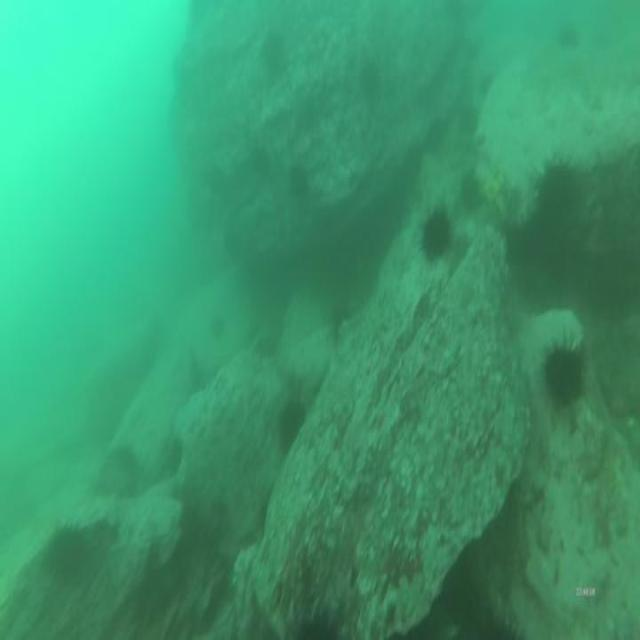echinus: (539, 324, 590, 414), (46, 517, 89, 599), (536, 150, 580, 228), (416, 202, 454, 267), (274, 398, 308, 458), (457, 166, 483, 215), (456, 96, 483, 140), (358, 54, 382, 102), (286, 158, 310, 205), (260, 27, 282, 73), (557, 21, 583, 58), (248, 140, 272, 178), (208, 310, 228, 349)
